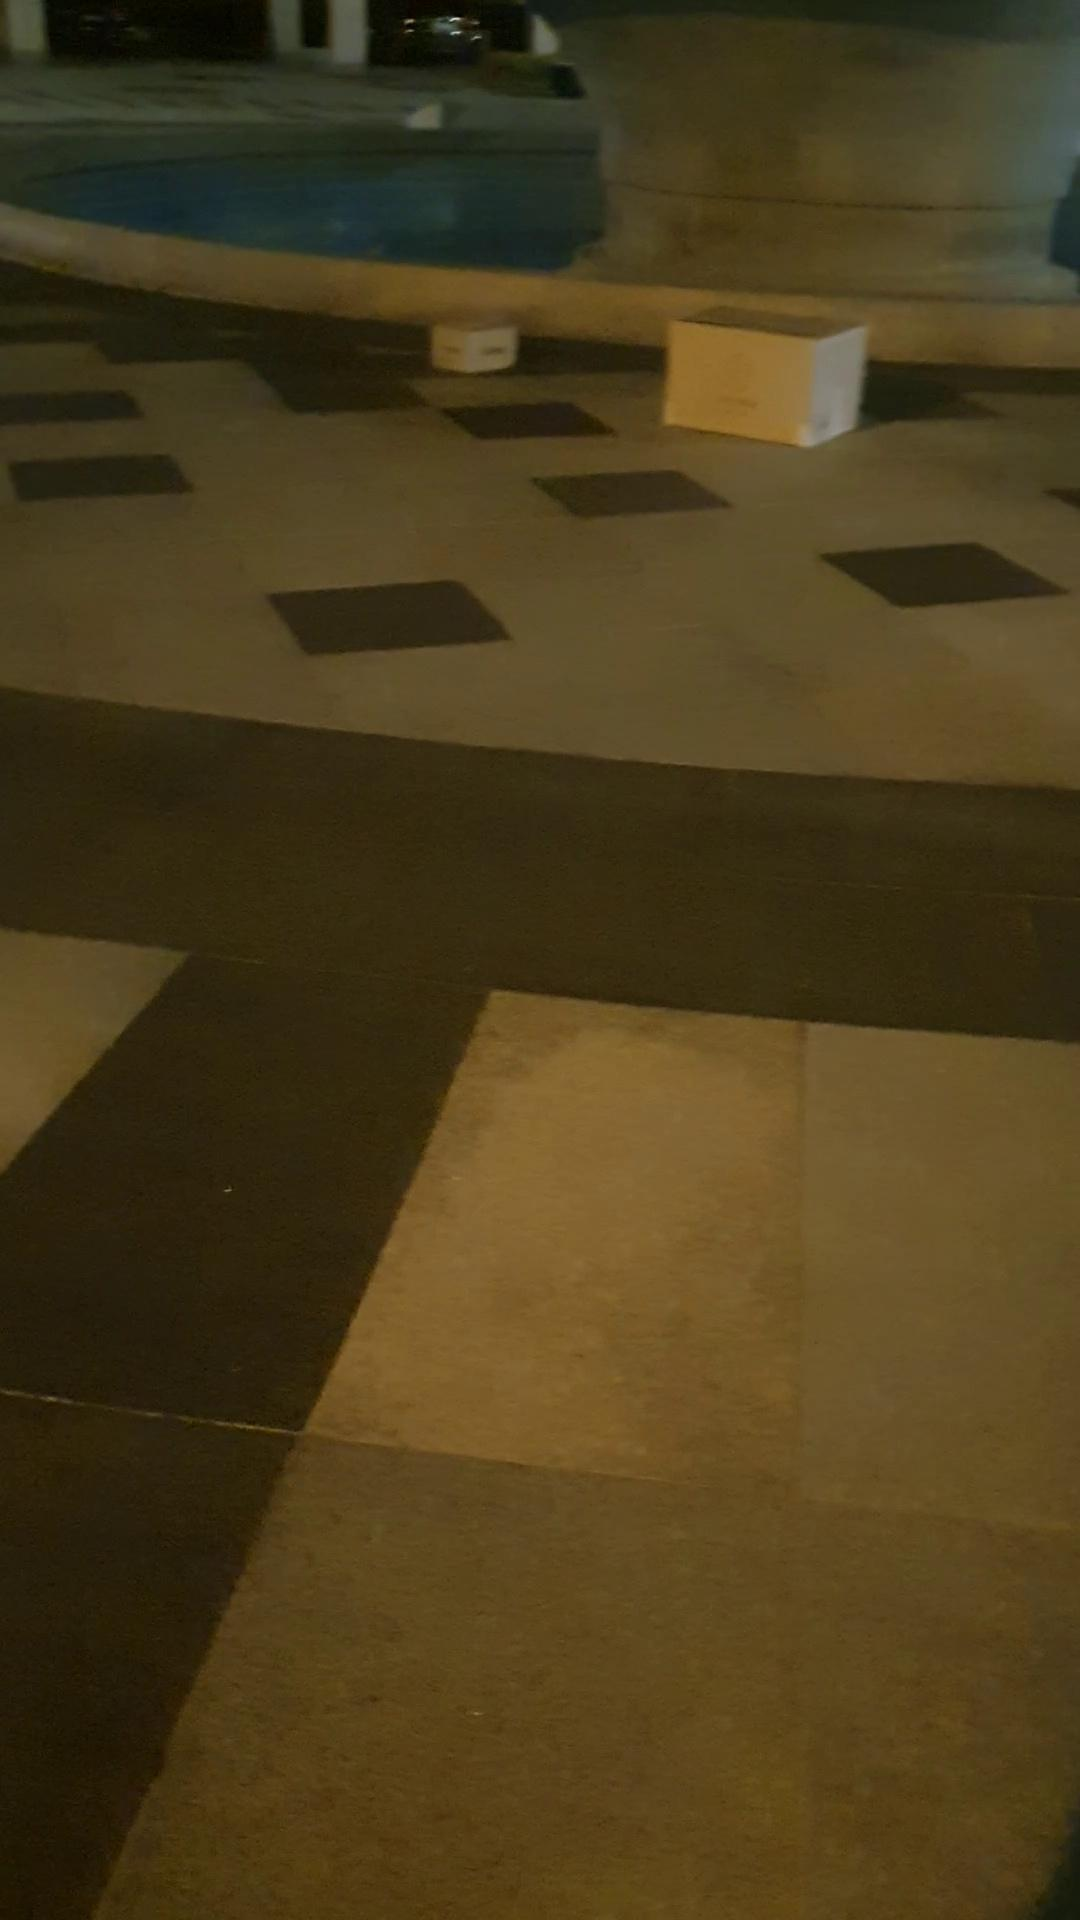Box: (653, 303, 880, 455), (426, 309, 530, 385)
